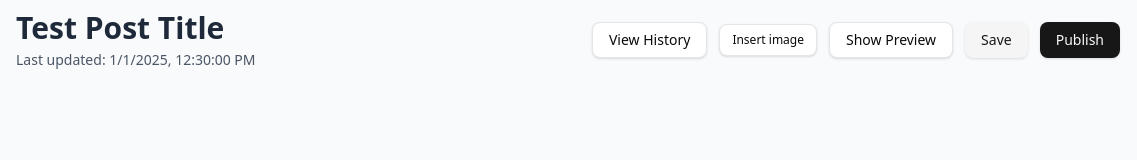
Test: PostEditor Component › shows success message after successful save
The width and height of the screenshot is (1137, 160).
Click the button "Save" at x=996, y=40, box [965, 22, 1028, 58]
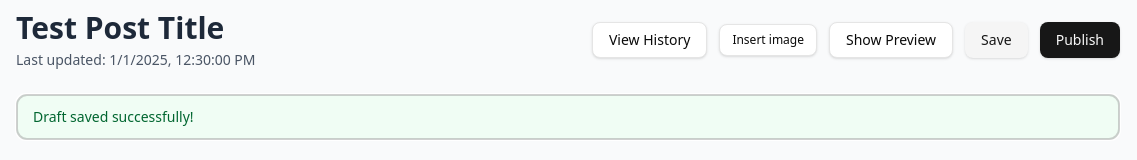
Expected: the text "Draft saved successfully!" is shown, [33, 107, 194, 126]
